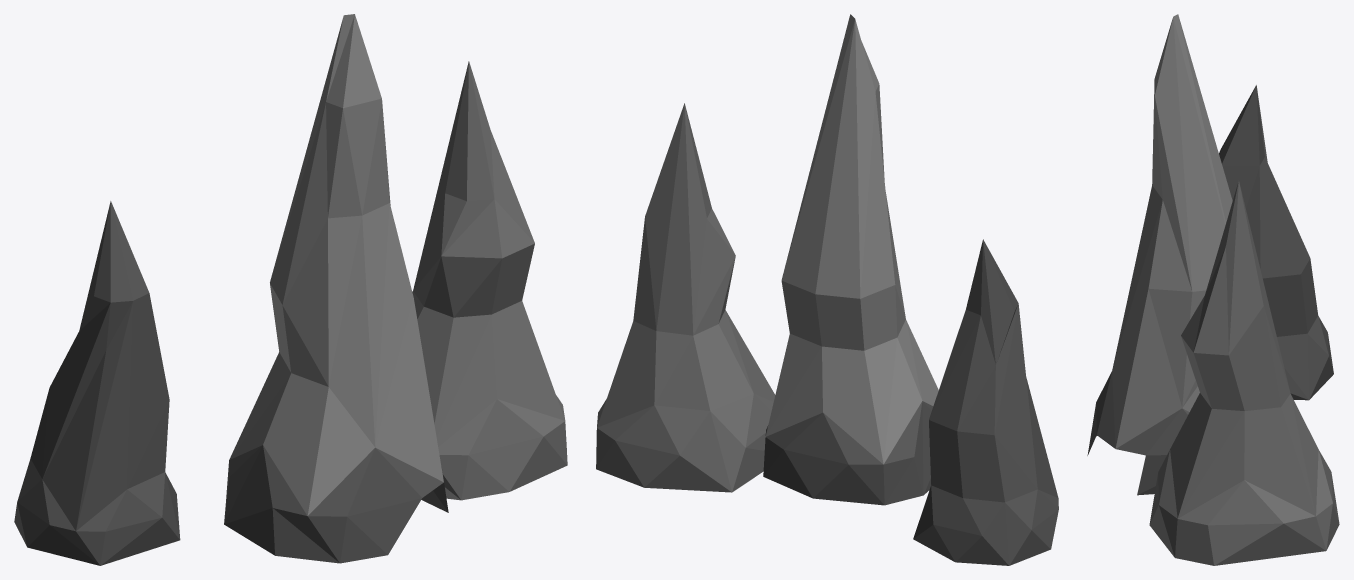
The model's file is stoun_11.fbx.
3 renders of one model, left to right at view 1: azimuth 30°, elevation 25°; view 2: azimuth 150°, elevation 25°; view 3: azimuth 270°, elevation 25°, orthographic. The views are drawn at different scales.
Parts seen in each view (by area): view 1: Object.012; view 2: Object.012; view 3: Object.012.
Boxes of the visible parts, <box> form: Object.012: <box>14,14,567,565</box>; Object.012: <box>596,14,1058,565</box>; Object.012: <box>1087,14,1339,565</box>.
Size of the model in its own units: 176 by 165 by 84.15.
